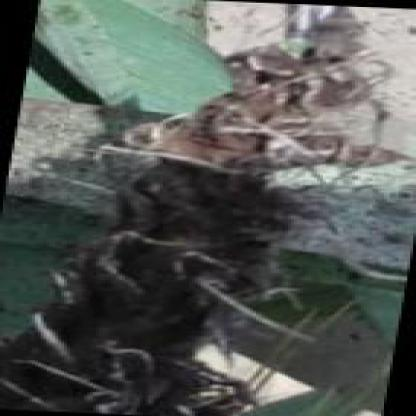Wheat Smut: (4, 339, 187, 412), (58, 279, 189, 333), (135, 179, 256, 227), (82, 235, 204, 276), (216, 136, 267, 169), (149, 143, 203, 171), (256, 59, 308, 87), (192, 376, 228, 408), (224, 98, 265, 125), (171, 125, 202, 138)
